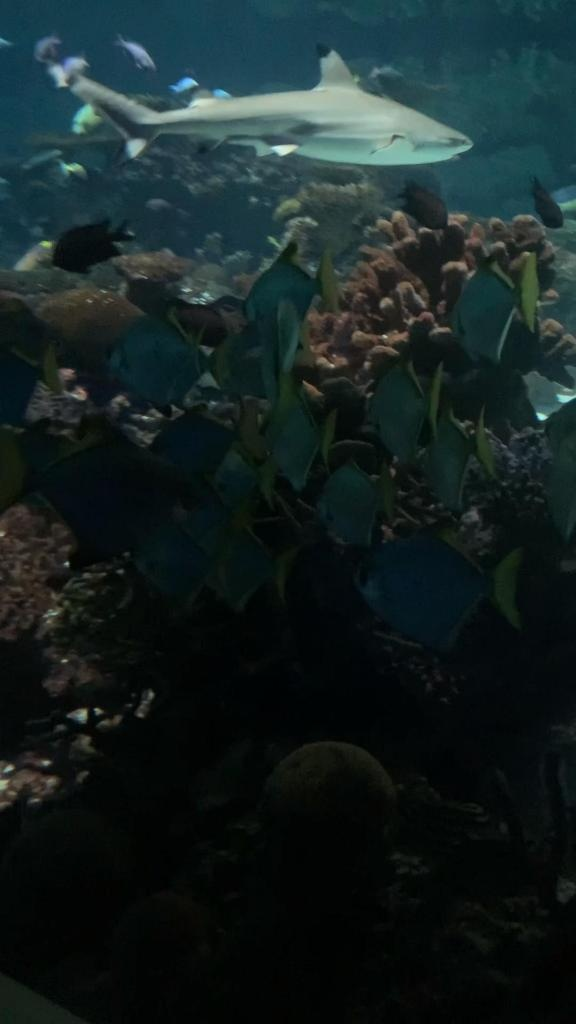fish: (21, 420, 189, 558), (388, 390, 546, 530), (338, 537, 516, 657), (356, 347, 516, 449), (168, 481, 264, 615), (180, 330, 324, 418), (226, 234, 358, 326), (72, 308, 212, 394), (443, 244, 536, 358), (240, 406, 354, 492), (51, 218, 137, 278), (396, 180, 452, 230), (530, 174, 564, 230), (72, 98, 108, 138), (36, 34, 62, 68), (124, 45, 156, 71), (369, 66, 407, 86), (168, 76, 200, 94)
shark: (38, 39, 474, 163)
